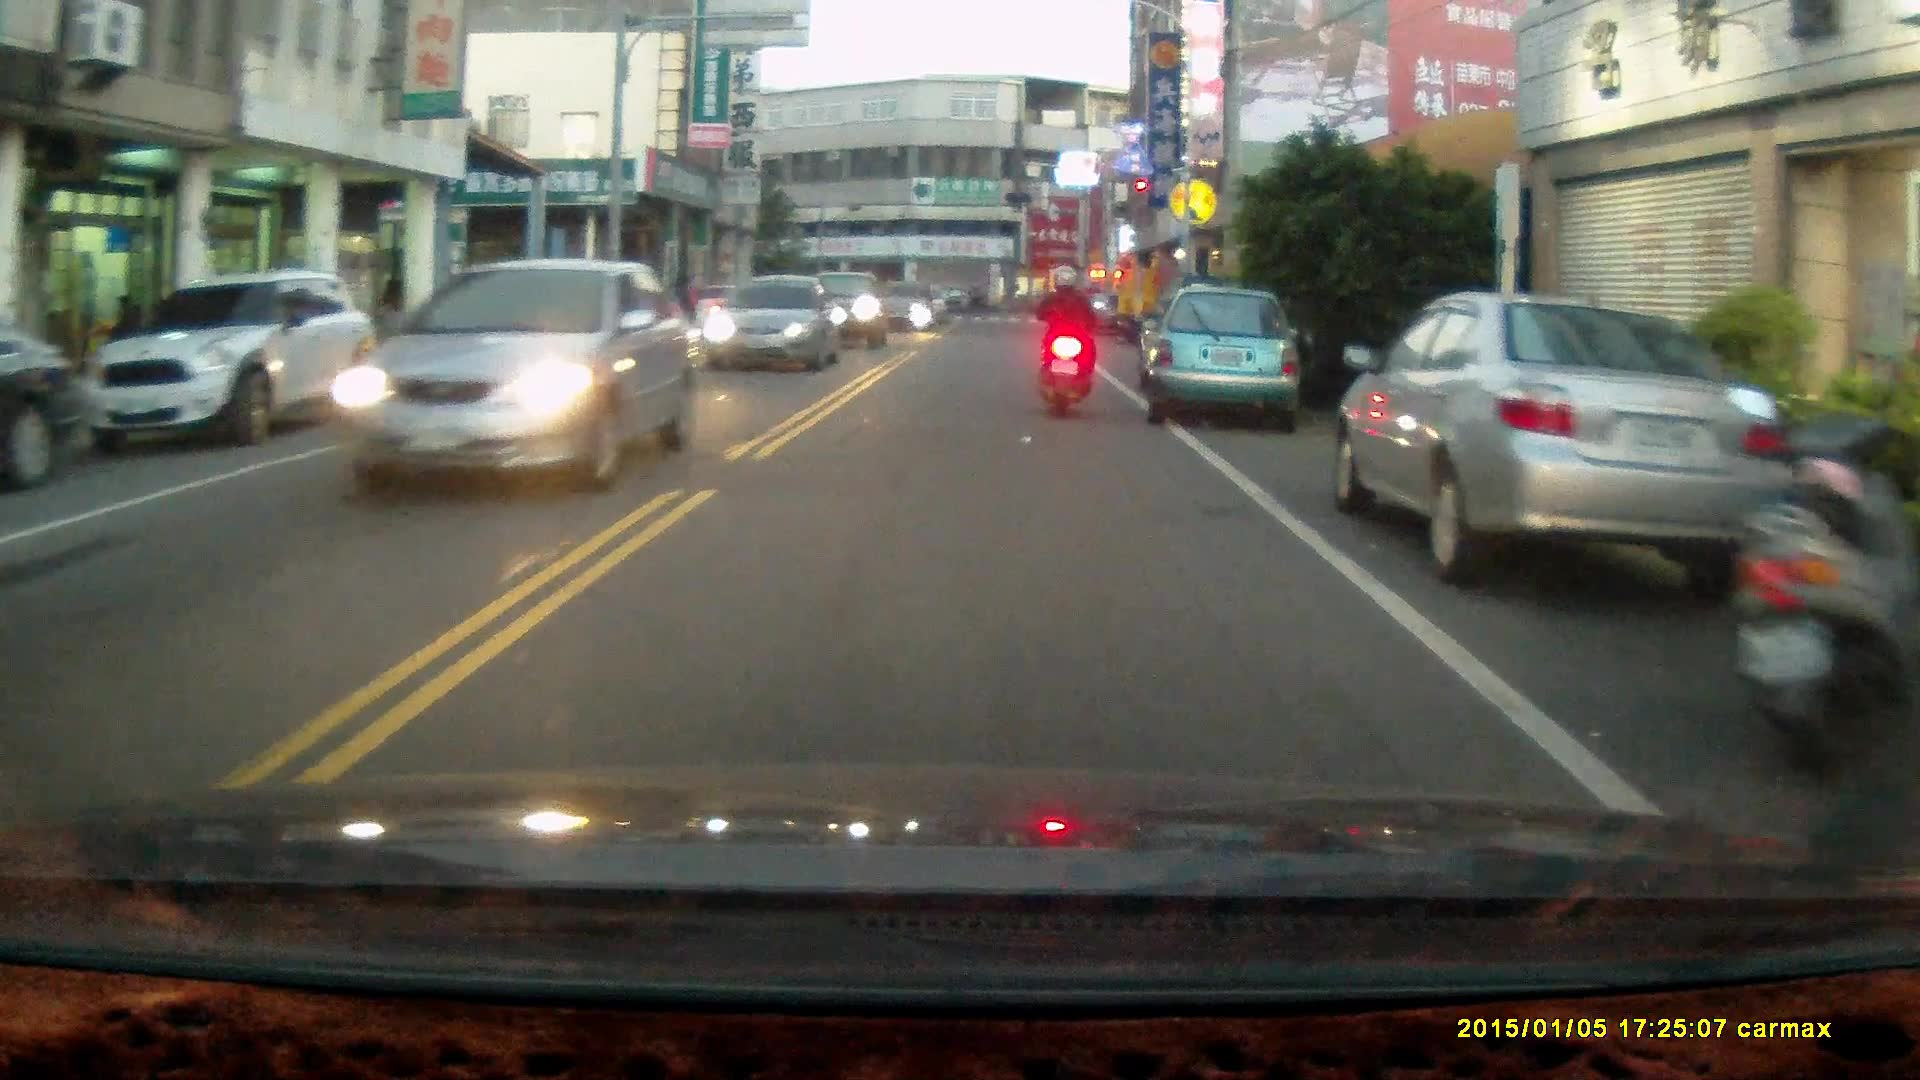pedestrian: (104, 290, 141, 362)
rider: (1033, 259, 1107, 418)
vehicle: (1331, 293, 1822, 584), (326, 259, 704, 487), (68, 266, 381, 460), (1145, 283, 1311, 436), (708, 279, 837, 380)
